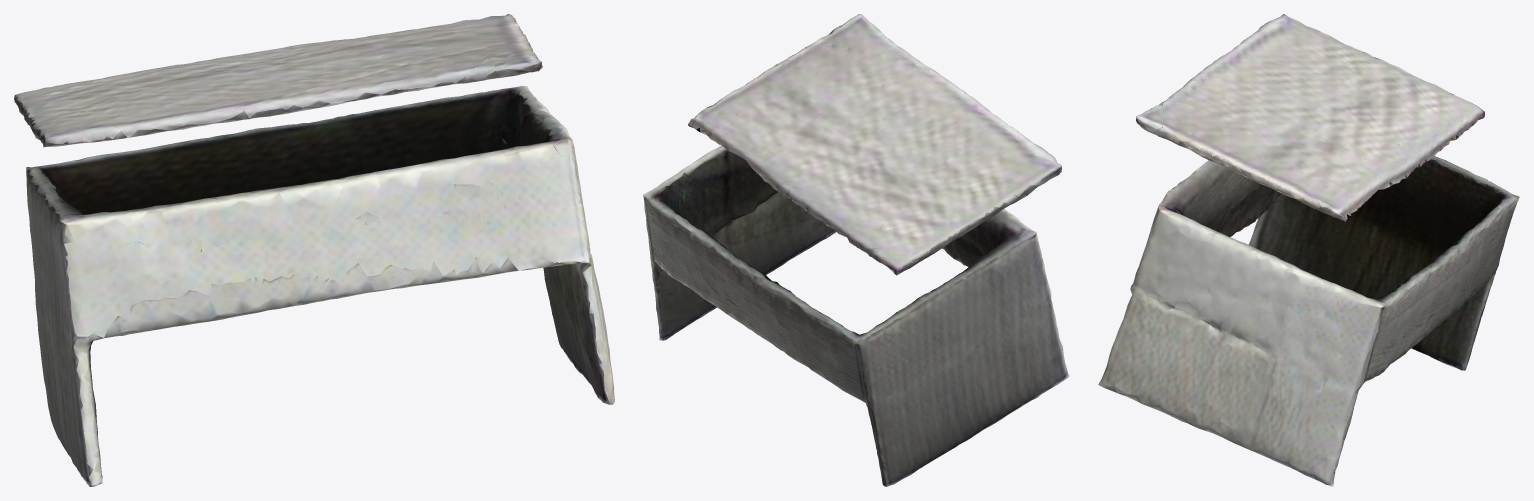
The picture shows the model from 3 angles, left to right: view 1: azimuth 30°, elevation 25°; view 2: azimuth 150°, elevation 25°; view 3: azimuth 270°, elevation 25°; orthographic projection. The views are drawn at different scales.
Parts seen in each view (by area): view 1: world; view 2: world; view 3: world.
Boxes of the visible parts, x1,y1,x2,y2 form: world: (14, 14, 614, 486); world: (643, 14, 1069, 486); world: (1098, 14, 1519, 486).
Size of the model in its own units: 0.9942 by 0.7943 by 0.8763.
1 material, 1 textured.
